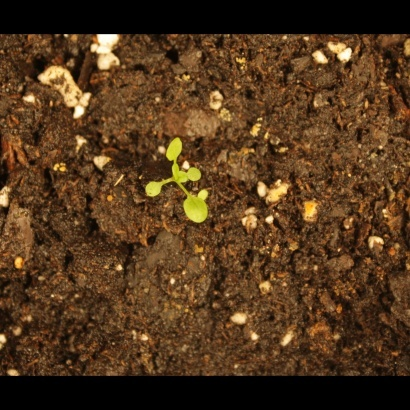leaf: (180, 193, 211, 226), (159, 133, 190, 165), (138, 173, 166, 205), (189, 162, 212, 185), (169, 165, 192, 188)
